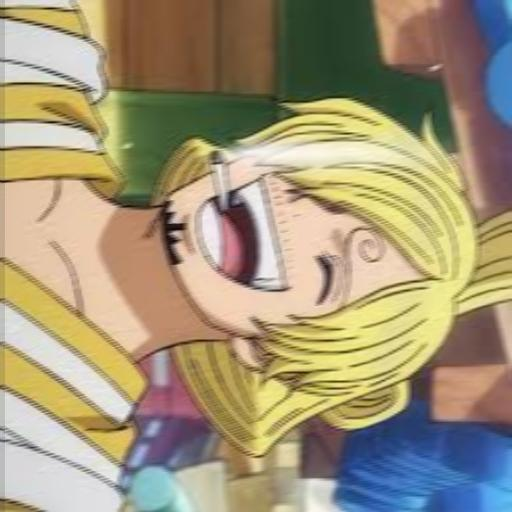sanji: (0, 11, 475, 511)
